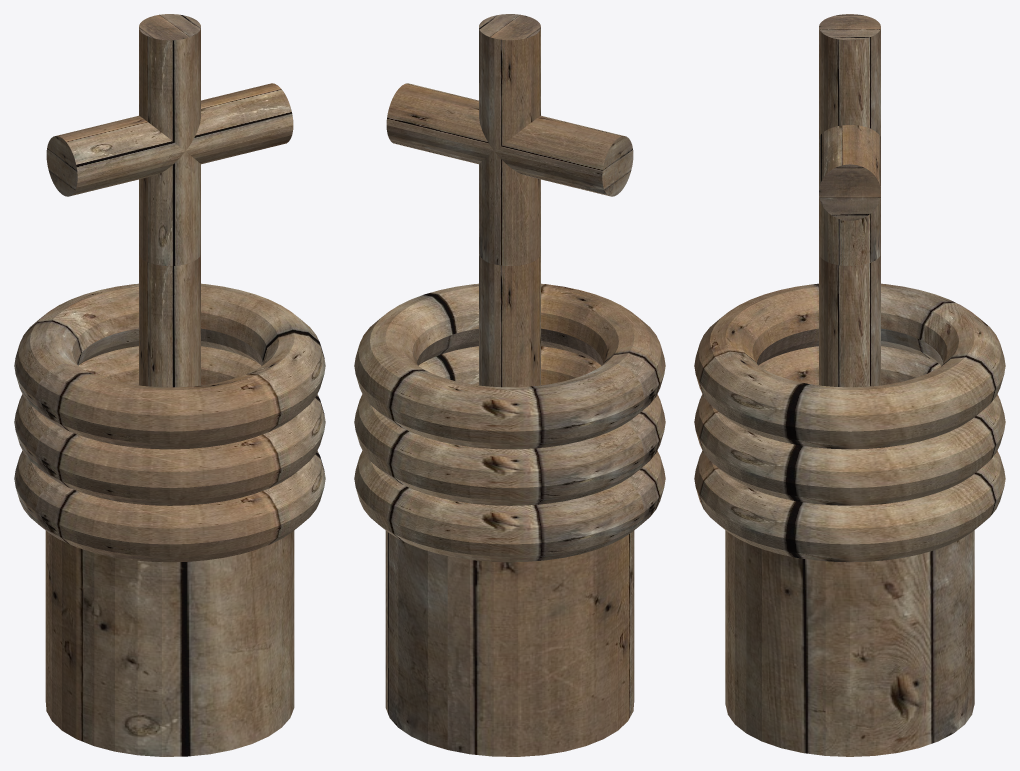
Rendered from King.glb.
3 renders of one model, left to right at view 1: azimuth 30°, elevation 25°; view 2: azimuth 150°, elevation 25°; view 3: azimuth 270°, elevation 25°, orthographic.
Parts seen in each view (by area): view 1: Node1, Torus.002, Torus.001, Torus, Cylinder, Cylinder.002, Cylinder.001; view 2: Node1, Torus.002, Torus.001, Torus, Cylinder, Cylinder.002, Cylinder.001; view 3: Node1, Torus.002, Torus.001, Torus, Cylinder.002, Cylinder.001, Cylinder.
Boxes of the visible parts, x1,y1,x2,y2 form: Node1: (45, 530, 294, 756); Torus.002: (14, 283, 325, 449); Torus.001: (14, 346, 325, 505); Torus: (14, 451, 325, 562); Cylinder: (46, 83, 293, 196); Cylinder.002: (139, 14, 200, 265); Cylinder.001: (139, 254, 200, 387); Node1: (385, 530, 634, 756); Torus.002: (354, 283, 665, 449); Torus.001: (354, 346, 665, 505); Torus: (354, 451, 665, 562); Cylinder: (386, 83, 633, 196); Cylinder.002: (479, 14, 540, 265); Cylinder.001: (479, 254, 540, 387); Node1: (725, 530, 974, 756); Torus.002: (694, 283, 1005, 449); Torus.001: (694, 346, 1005, 505); Torus: (694, 450, 1005, 562); Cylinder.002: (819, 14, 880, 265); Cylinder.001: (819, 254, 880, 387); Cylinder: (819, 125, 880, 220).
Size of the model in its own units: 2.5 by 6 by 2.5.
Materials: 1 (1 with a texture image).
